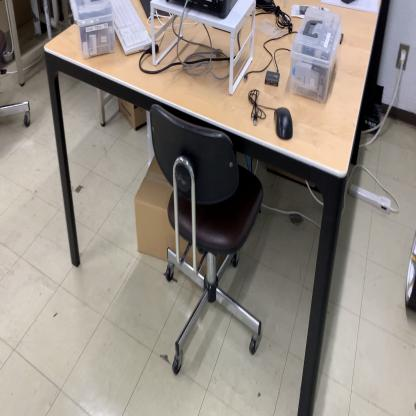chair: (150, 104, 264, 377)
